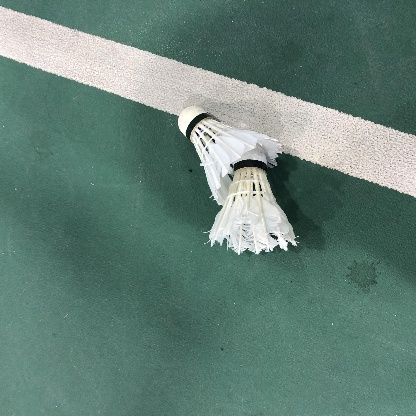ball_single: (177, 106, 297, 255)
